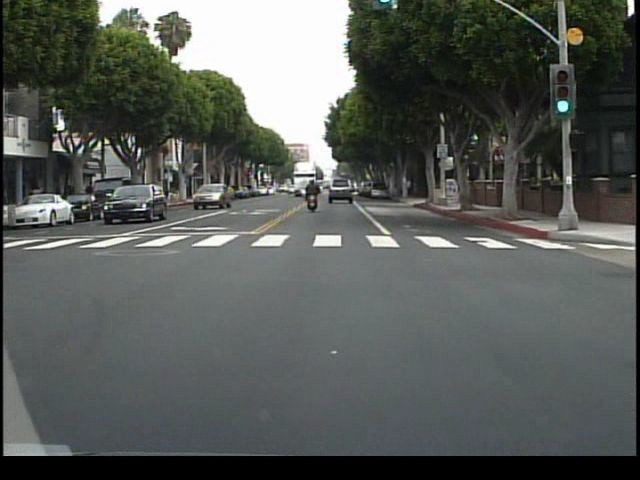person: (303, 177, 323, 216)
